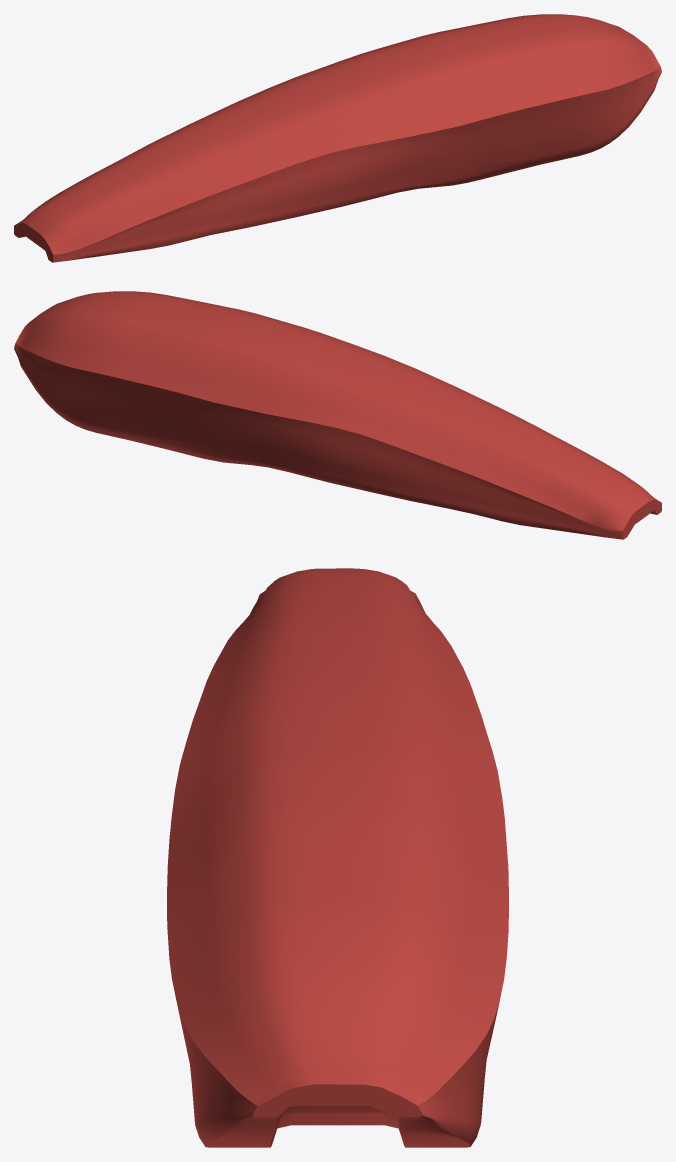
File: bobber_3_lod2.glb
The picture shows the model from 3 angles, top to bottom: view 1: azimuth 30°, elevation 25°; view 2: azimuth 150°, elevation 25°; view 3: azimuth 270°, elevation 25°; orthographic projection. The views are drawn at different scales.
Visible parts, largest first — view 1: bobber_3_lod2; view 2: bobber_3_lod2; view 3: bobber_3_lod2.
Part boxes in pixels (x1,y1,x2,y2): bobber_3_lod2: (14,14,661,262); bobber_3_lod2: (14,291,661,539); bobber_3_lod2: (167,568,508,1147).
Size of the model in its own units: 1.06 by 0.1863 by 0.26.
